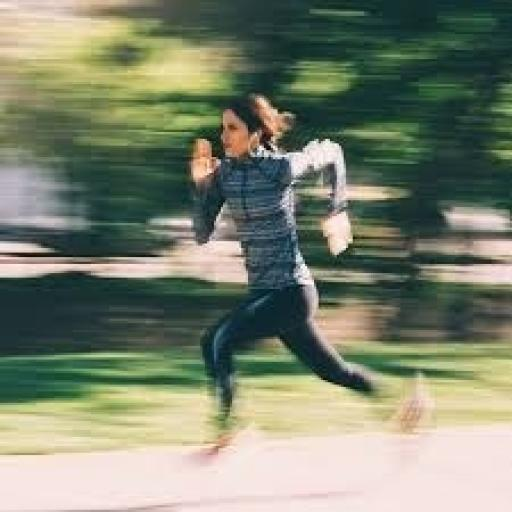running: (180, 89, 434, 462)
